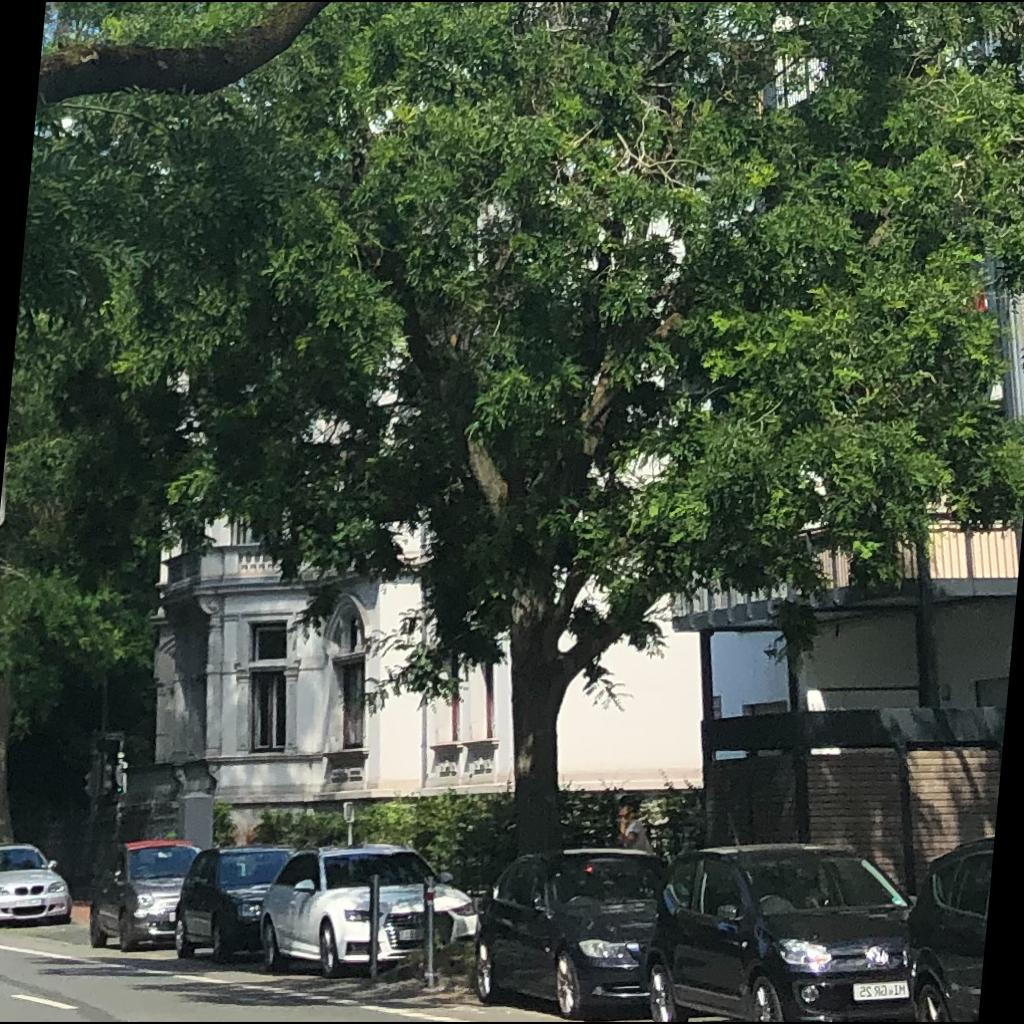tree: (1, 2, 1023, 858), (36, 1, 333, 110)
